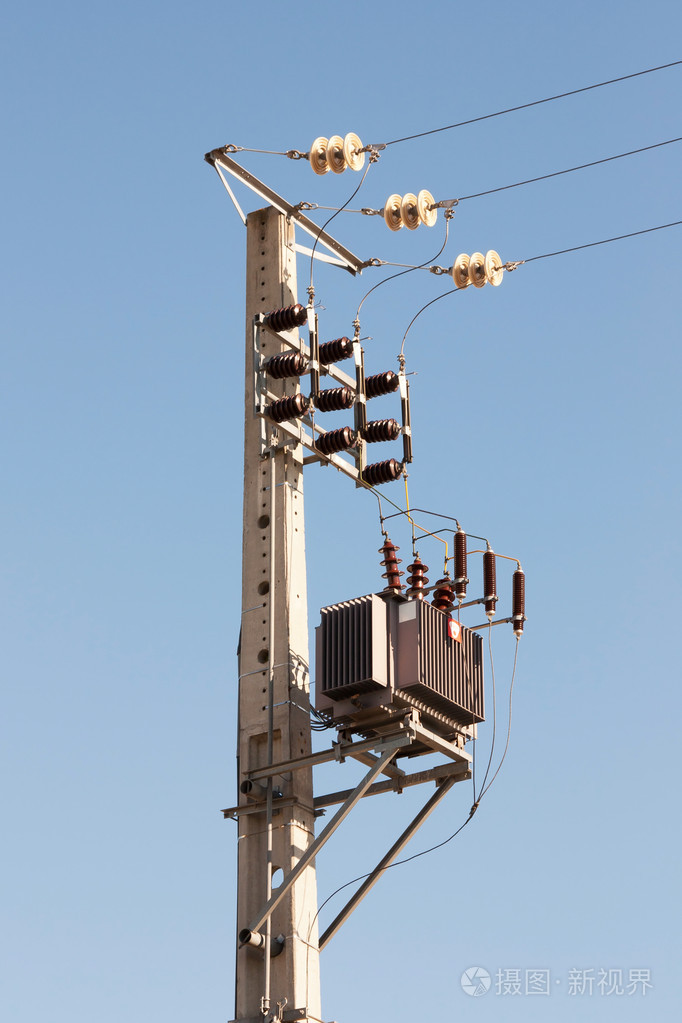insulator: (304, 131, 367, 176), (378, 189, 441, 230), (448, 251, 503, 291), (376, 539, 404, 589), (433, 574, 461, 613), (404, 561, 430, 597)
